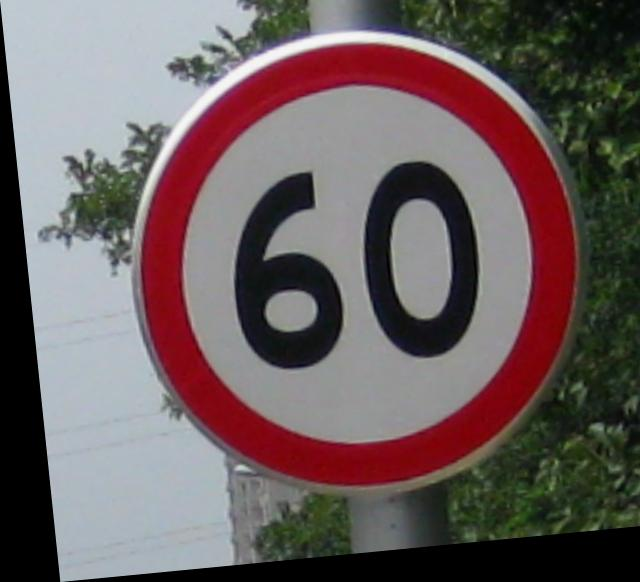limit60: (91, 13, 605, 521)
